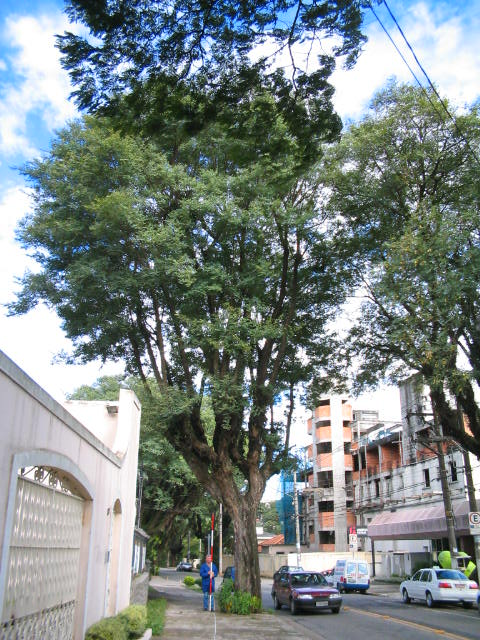crown: (8, 101, 347, 391)
stem: (224, 496, 268, 611)
stick: (205, 512, 218, 612)
tree: (4, 99, 349, 609)
